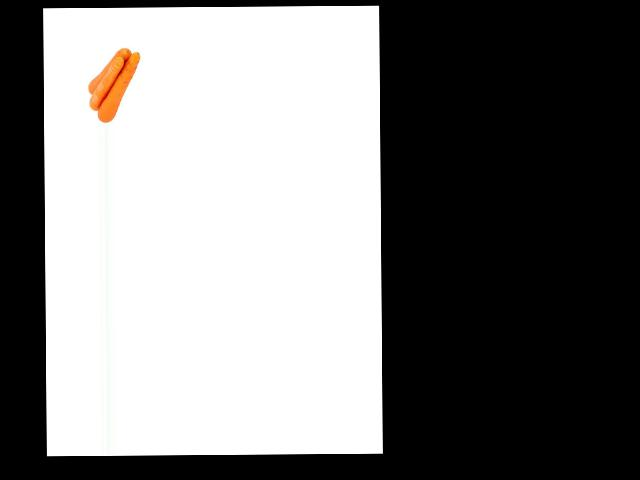carrot: (97, 54, 139, 123)
